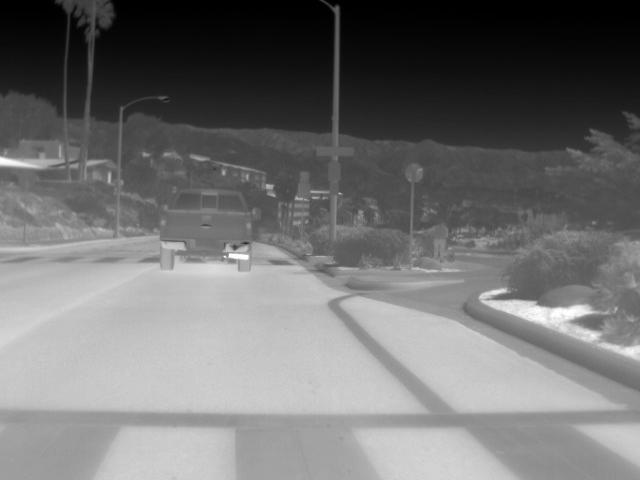car: (156, 185, 254, 273)
person: (429, 221, 450, 262)
